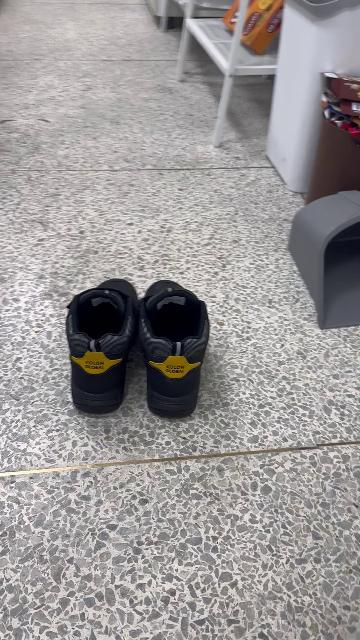shoe_worn: (68, 278, 143, 415), (137, 280, 210, 419)
